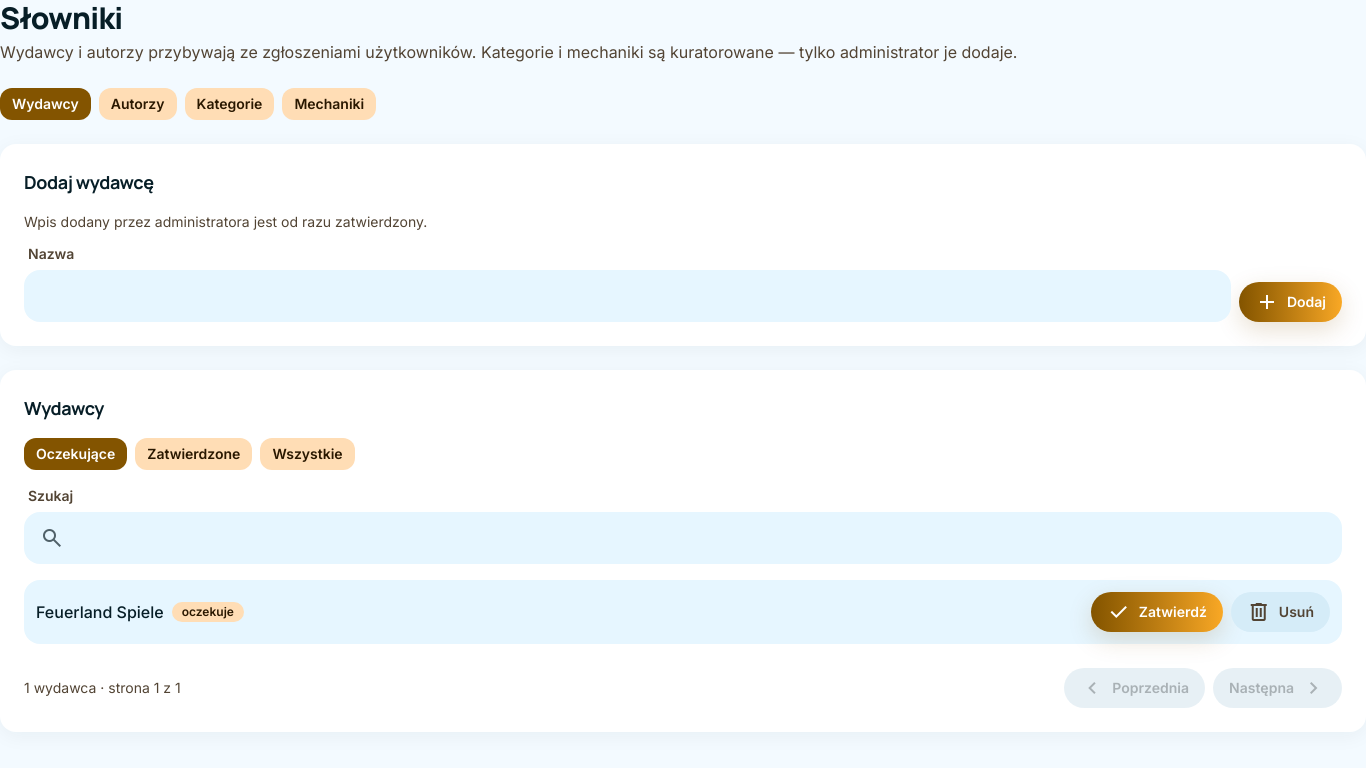
AdminTaxonomyPage — autorzy › edycja autora wysyła imię i nazwisko
Click the button "Autorzy": (138, 104) top-left (99, 88), bottom-right (176, 120)
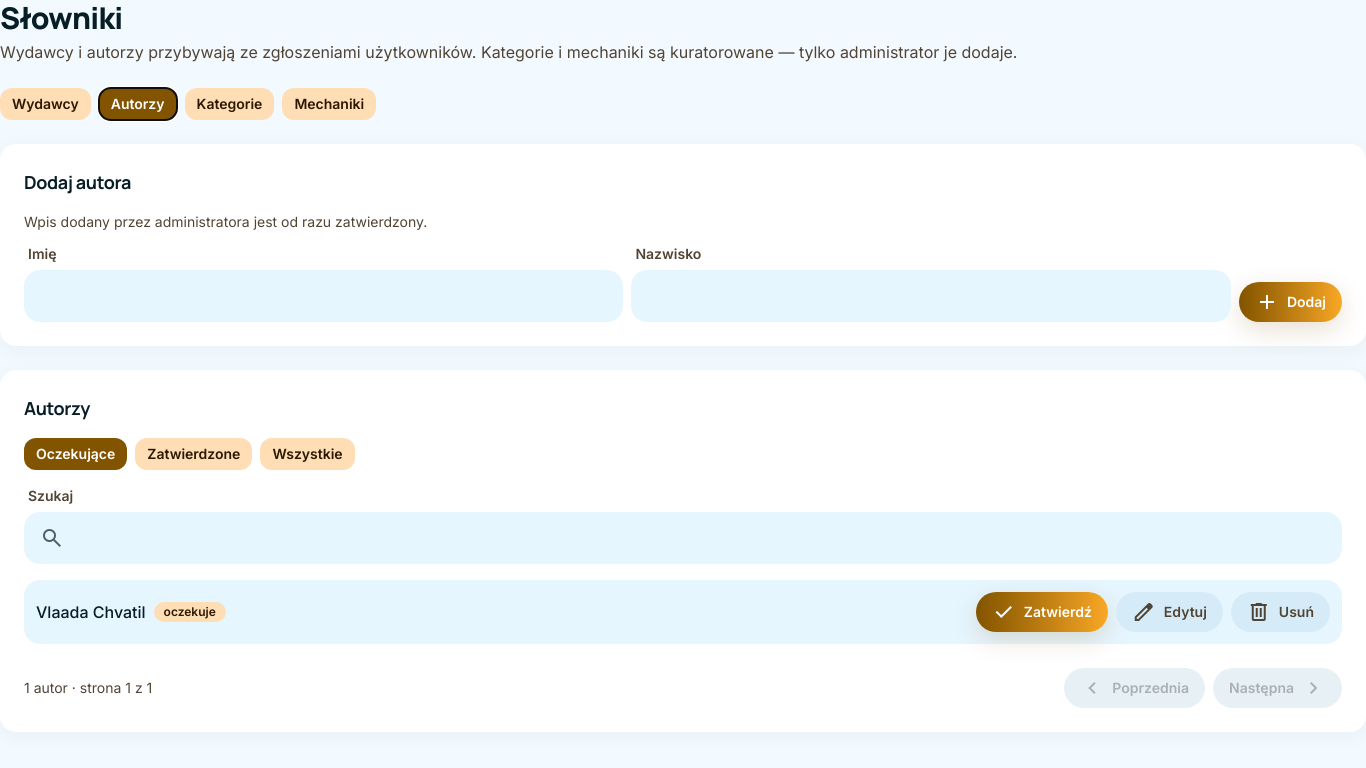
Check: the text "Vlaada Chvatil" is shown, box top-left (36, 600), bottom-right (146, 624)
Click the button "Edytuj": (1169, 612) top-left (1116, 592), bottom-right (1223, 632)
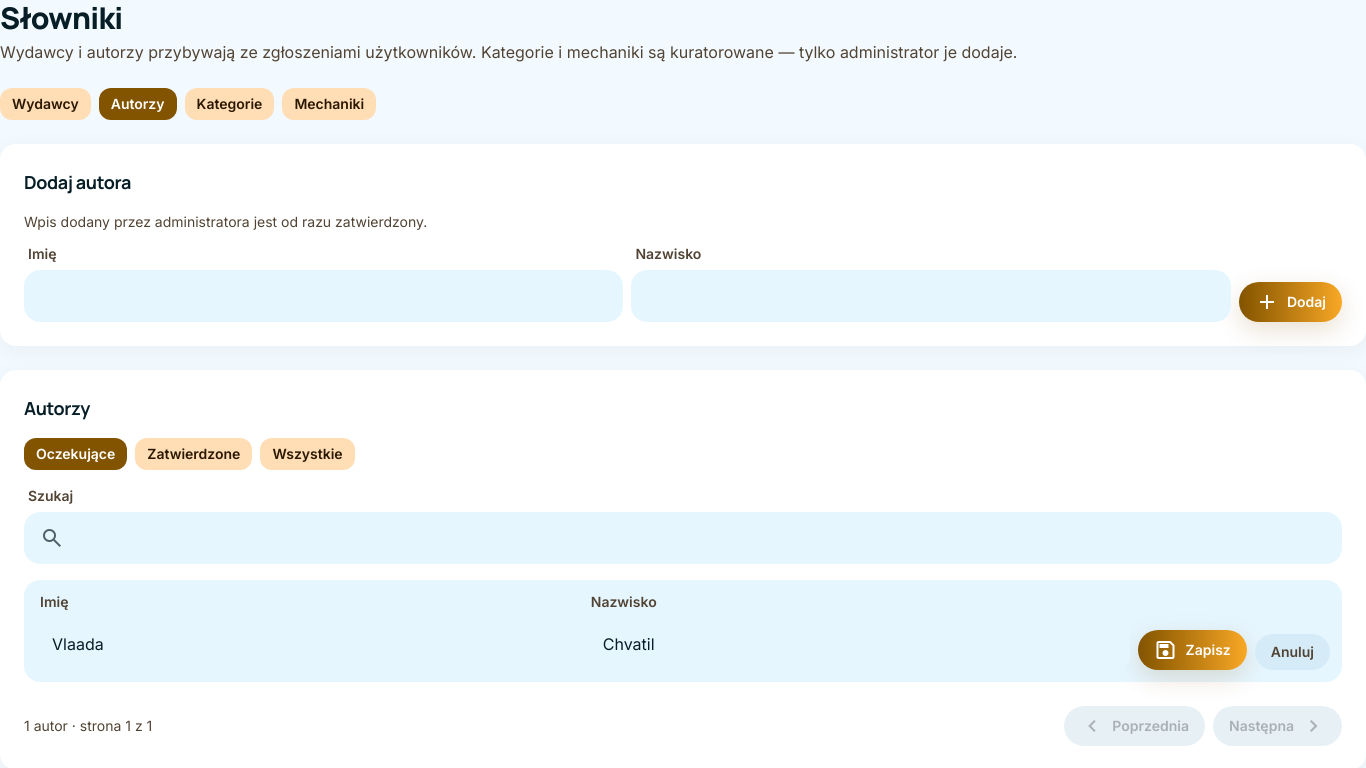
Replace the text in the 2nd field labelled "Nazwisko" with "Chvátil": (858, 644) top-left (587, 618), bottom-right (1130, 670)
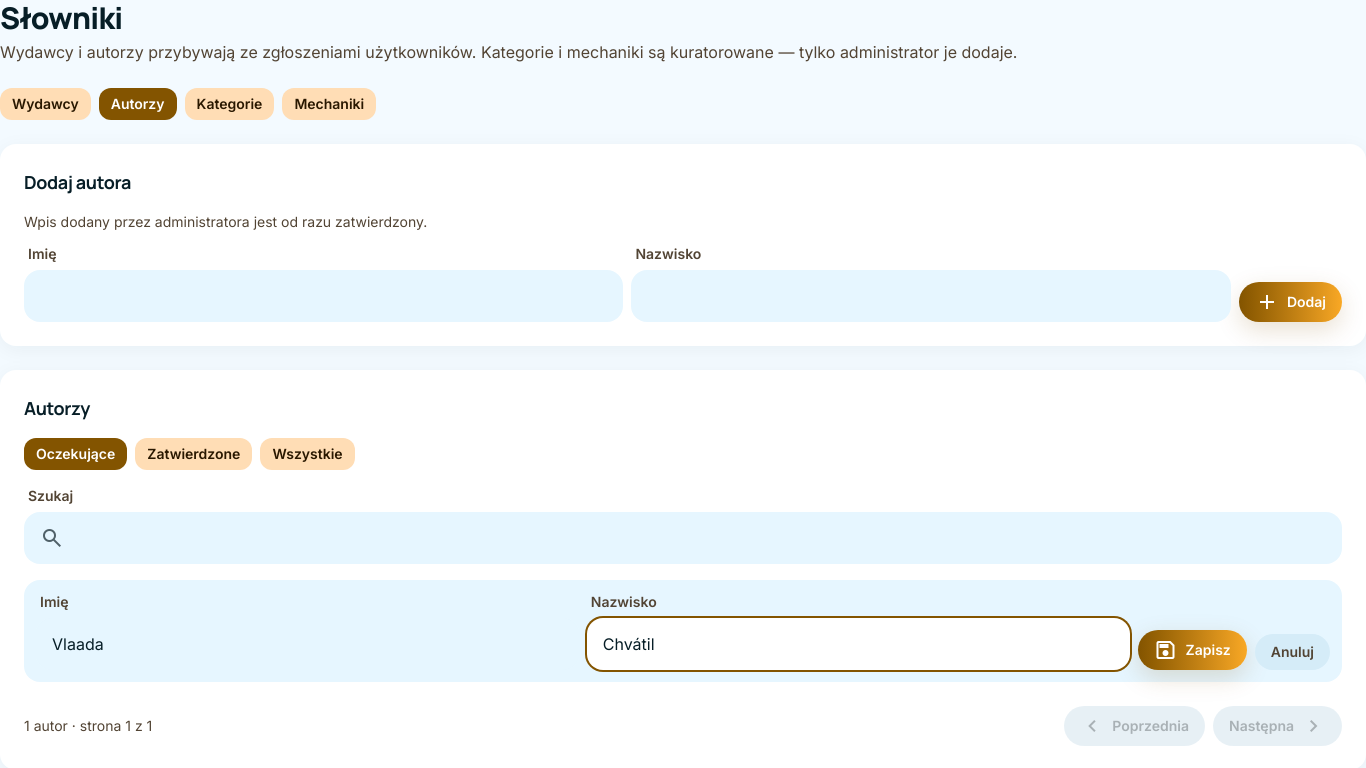
Click the button "Zapisz": (1192, 650) top-left (1138, 630), bottom-right (1247, 670)
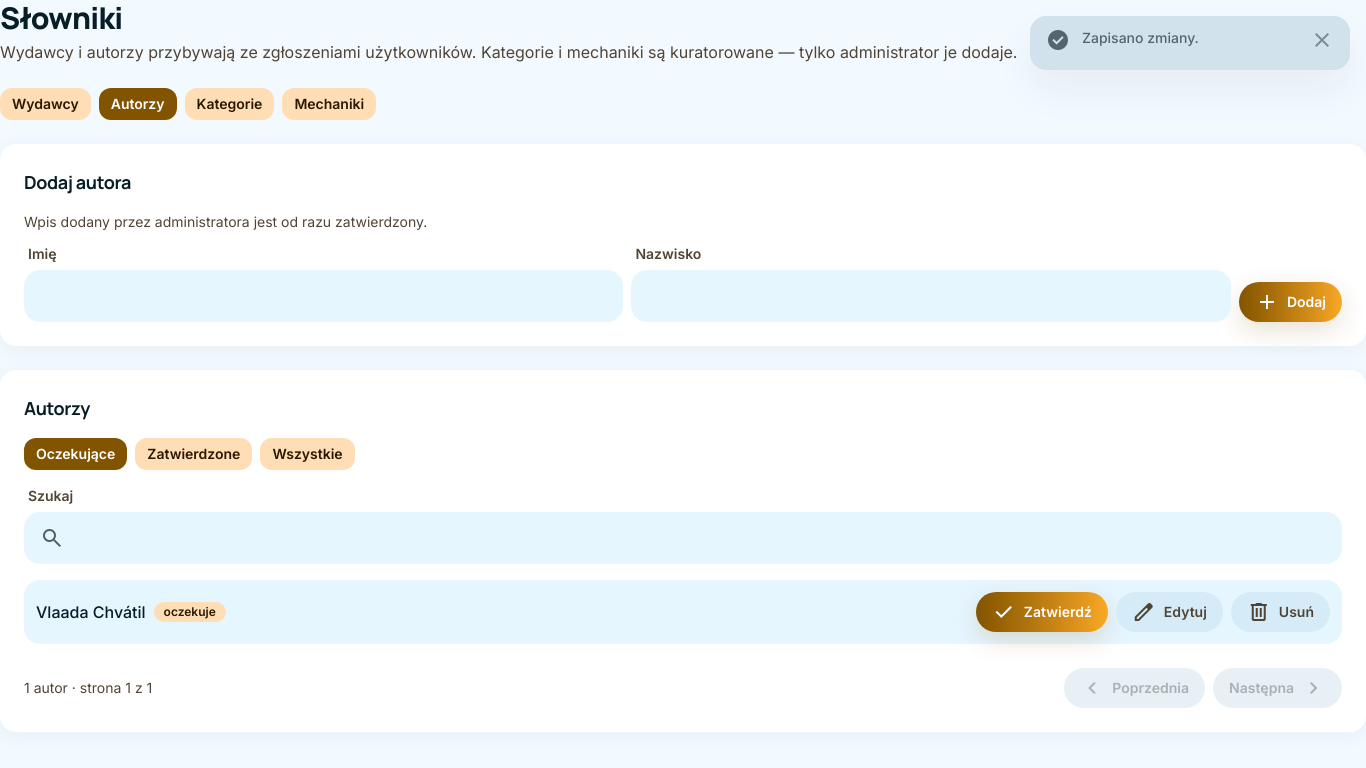
Check: the text "Vlaada Chvátil" is shown, box top-left (36, 600), bottom-right (146, 624)
